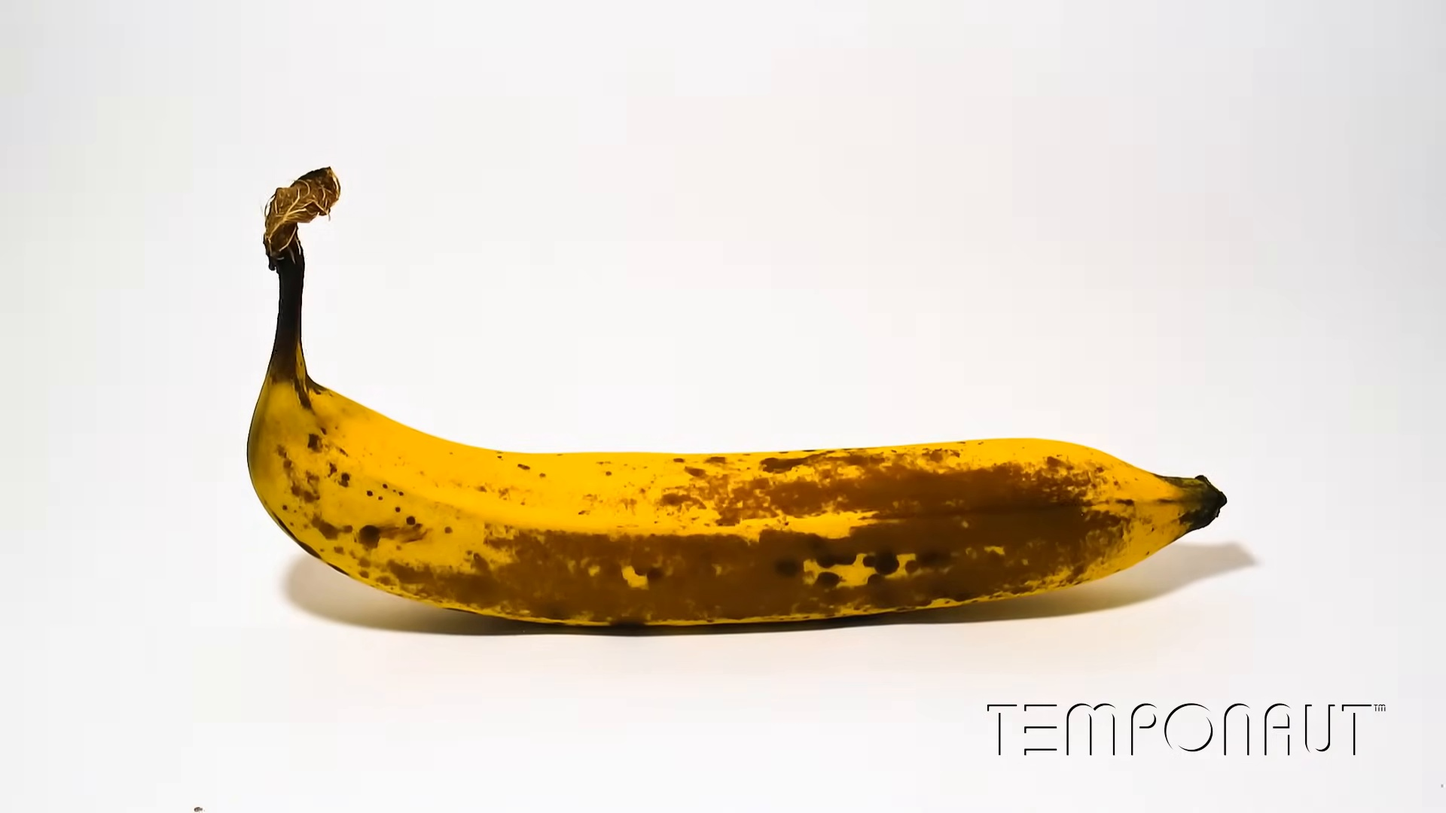banana_rotten: (245, 165, 1228, 631)
